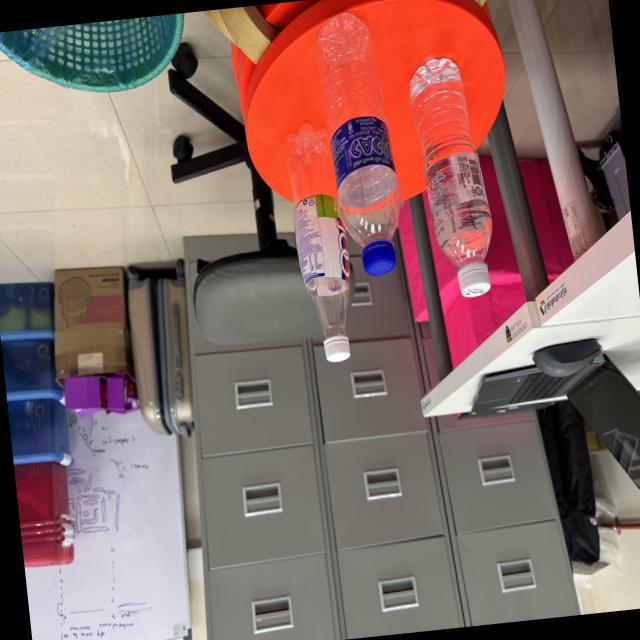plastic_bottle: (309, 0, 413, 280), (398, 41, 505, 310), (274, 112, 364, 376)
